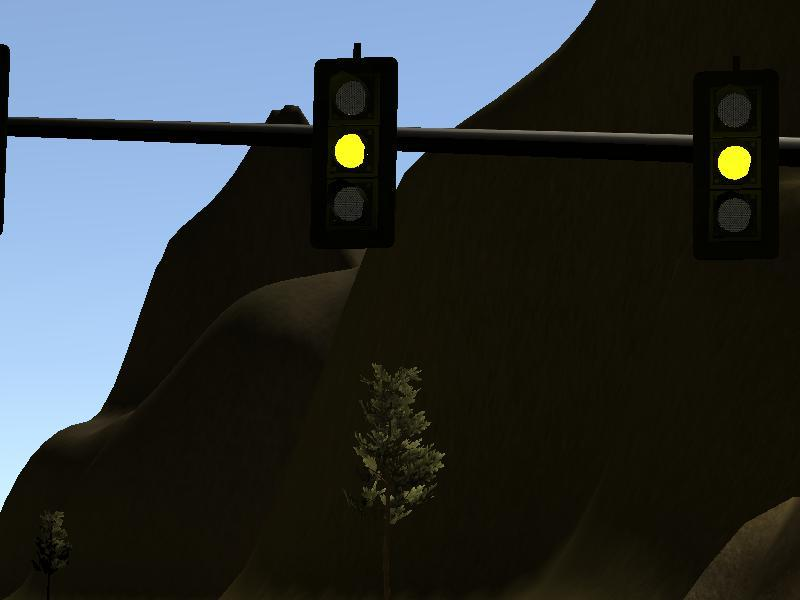Yellow: (693, 70, 780, 260), (310, 57, 395, 248)
